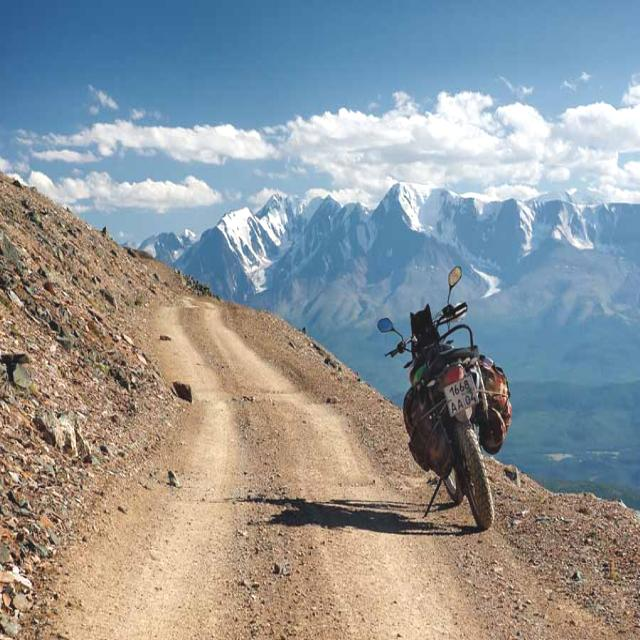MOTORCYCLE: (401, 300, 504, 540)
